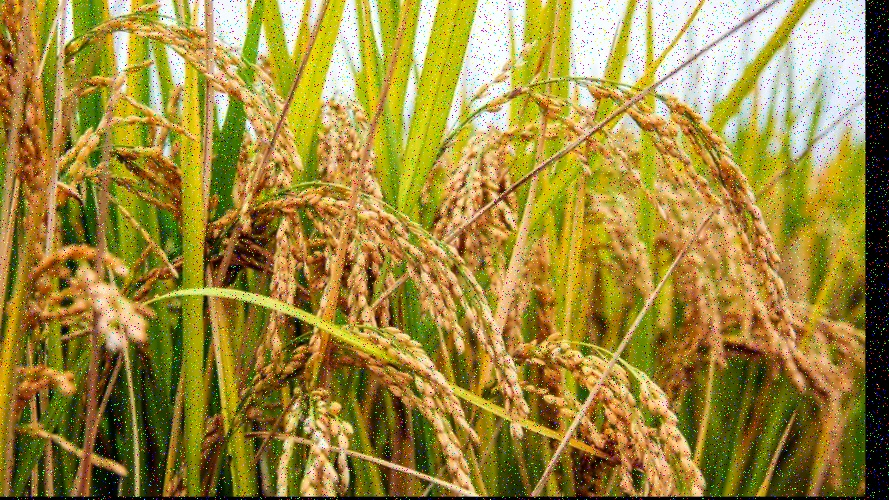rice: (525, 68, 810, 345), (195, 173, 473, 337), (237, 319, 476, 489), (66, 15, 311, 174), (483, 335, 704, 492)
